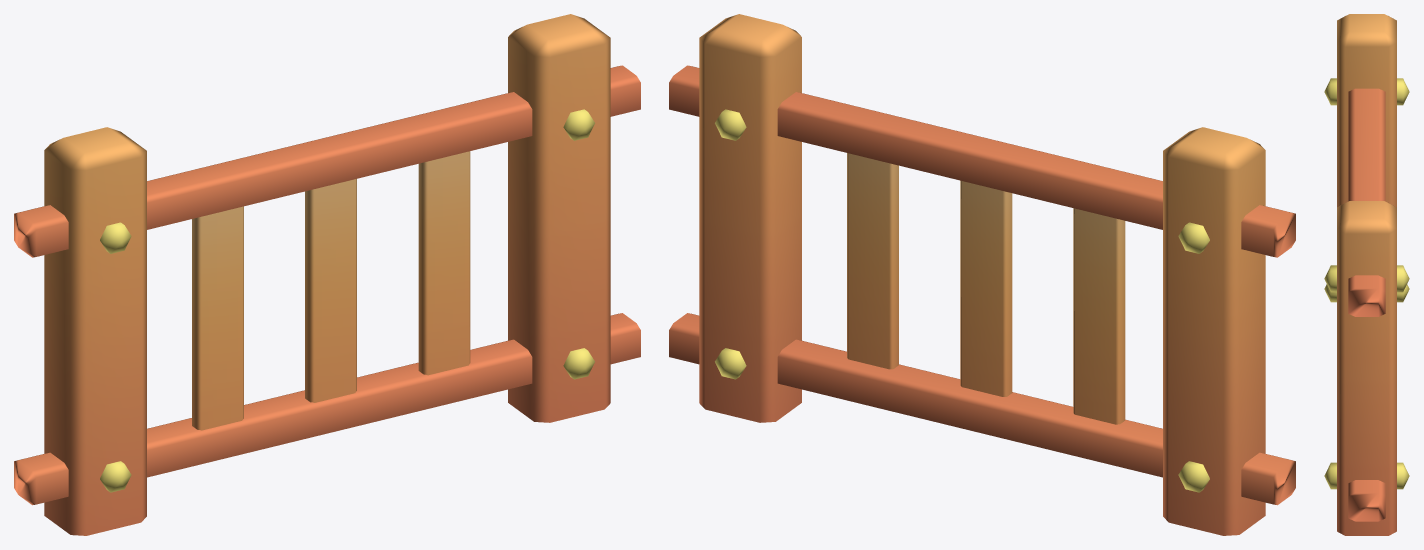
File: Furniture_Partition_3.fbx
3 views of the same model, side by side, from view 1: azimuth 30°, elevation 25°; view 2: azimuth 150°, elevation 25°; view 3: azimuth 270°, elevation 25° (orthographic). The views are drawn at different scales.
Parts seen in each view (by area): view 1: Furniture_Partition_3; view 2: Furniture_Partition_3; view 3: Furniture_Partition_3.
Boxes of the visible parts, x1=… form: Furniture_Partition_3: x1=14, y1=14, x2=640, y2=535; Furniture_Partition_3: x1=669, y1=14, x2=1295, y2=535; Furniture_Partition_3: x1=1324, y1=14, x2=1409, y2=535.
Bounding box in the file's own units: 175 × 104 × 25.94.
